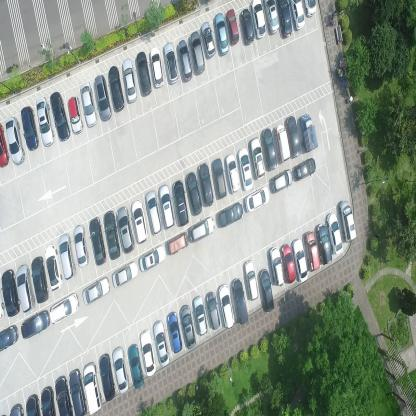car: (49, 90, 71, 141), (83, 360, 102, 415), (4, 116, 24, 165), (137, 240, 165, 274), (1, 268, 20, 318), (30, 254, 49, 303), (16, 264, 35, 313), (49, 292, 79, 323), (103, 209, 121, 260), (88, 215, 106, 266), (57, 232, 76, 280), (110, 346, 129, 394), (151, 319, 170, 366), (290, 238, 309, 284), (94, 73, 112, 121), (36, 98, 54, 146), (116, 205, 134, 253), (45, 243, 63, 291), (98, 354, 116, 402), (216, 283, 235, 328), (108, 65, 126, 112), (130, 198, 148, 245), (68, 368, 86, 415), (21, 309, 49, 339), (230, 278, 249, 322), (139, 328, 156, 377), (80, 82, 98, 128), (179, 303, 196, 351), (20, 106, 38, 151), (326, 212, 344, 257), (135, 50, 152, 97), (111, 260, 138, 289), (82, 276, 109, 305), (145, 189, 162, 235), (258, 268, 275, 314), (339, 200, 357, 243), (126, 345, 144, 388), (237, 144, 253, 192), (172, 178, 188, 226), (189, 30, 206, 75), (166, 309, 183, 354), (249, 0, 268, 40), (54, 375, 73, 415), (300, 110, 318, 152), (315, 224, 333, 266), (122, 57, 138, 104), (198, 160, 214, 207), (158, 183, 174, 230), (186, 170, 202, 215), (280, 242, 297, 284), (74, 223, 90, 267), (244, 186, 269, 214), (67, 94, 84, 135), (303, 231, 320, 272), (190, 214, 214, 243), (177, 38, 193, 81), (163, 41, 179, 84), (243, 258, 259, 301), (276, 0, 294, 38), (149, 46, 165, 88), (263, 124, 277, 172), (218, 200, 242, 228), (214, 12, 229, 56), (251, 136, 266, 180), (192, 295, 208, 336), (212, 156, 227, 199), (262, 0, 279, 37), (240, 7, 256, 46), (286, 113, 300, 157), (226, 151, 240, 195), (200, 22, 216, 60), (268, 246, 284, 284), (275, 122, 290, 162), (205, 292, 221, 329), (293, 157, 316, 182), (226, 8, 241, 45), (288, 0, 304, 32), (270, 169, 292, 192), (167, 230, 188, 254), (40, 386, 56, 416), (0, 325, 18, 351), (0, 121, 10, 166), (25, 394, 40, 416), (304, 0, 317, 20)
